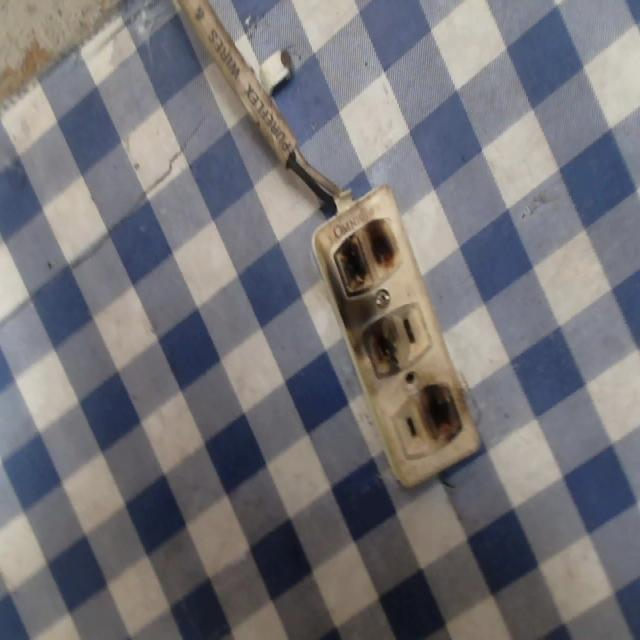-: (329, 207, 405, 300), (413, 374, 463, 450), (356, 317, 408, 380)
